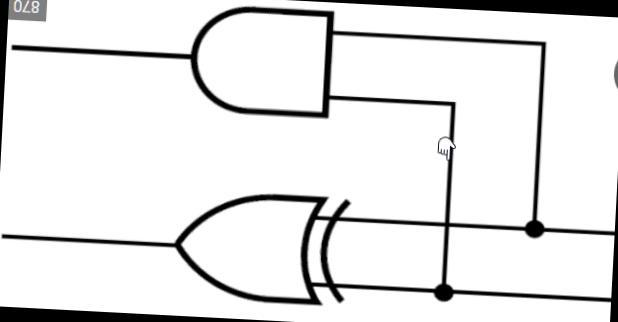and: (180, 0, 343, 126)
or: (166, 182, 354, 308)
